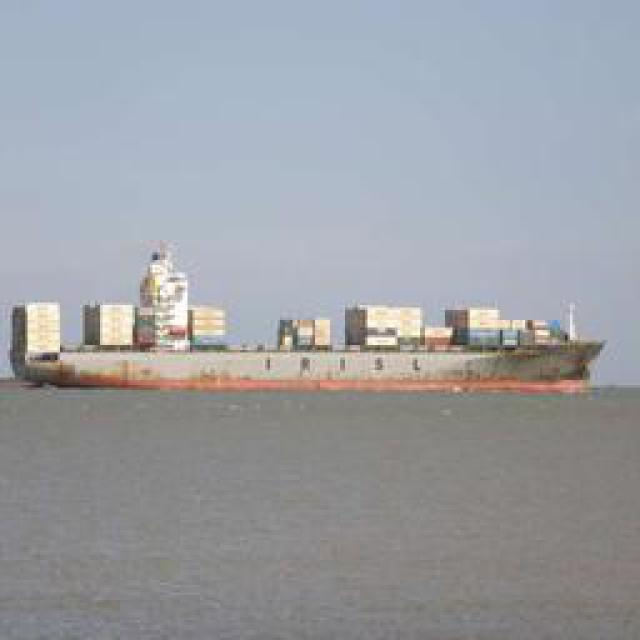Ship: (26, 296, 609, 386)
